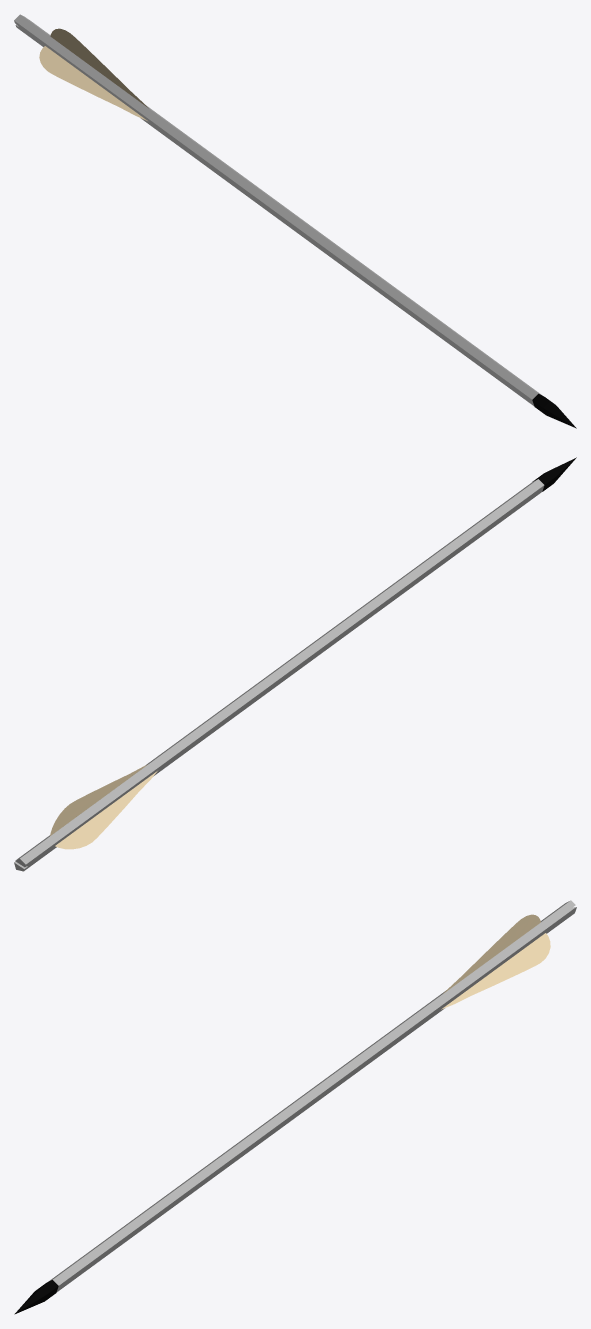
File: Arrow.fbx
3 renders of one model, top to bottom at view 1: azimuth 30°, elevation 25°; view 2: azimuth 150°, elevation 25°; view 3: azimuth 330°, elevation 25°, orthographic.
Parts seen in each view (by area): view 1: Arrow; view 2: Arrow; view 3: Arrow.
Part boxes in pixels (x1,y1,x2,y2): Arrow: (14, 14, 576, 428); Arrow: (14, 457, 576, 871); Arrow: (14, 900, 576, 1314).
Size of the model in its own units: 1.05 by 0.9223 by 23.96.
